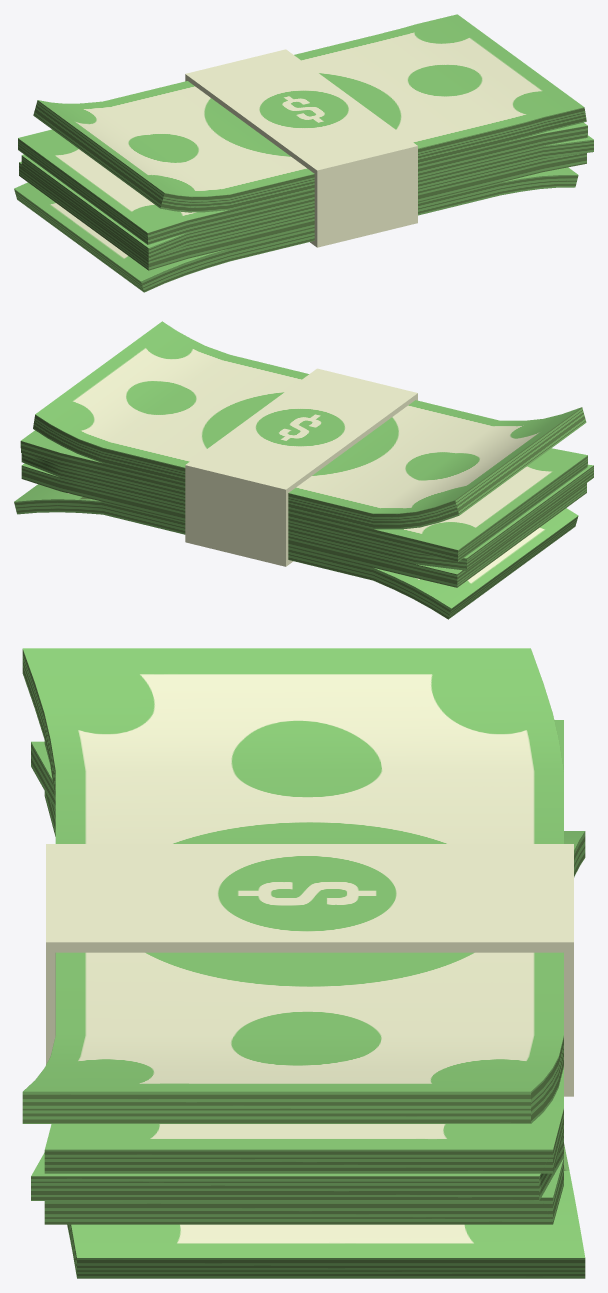
The model's file is M_Bunch_03.fbx.
3 renders of one model, top to bottom at view 1: azimuth 30°, elevation 25°; view 2: azimuth 150°, elevation 25°; view 3: azimuth 270°, elevation 25°, orthographic. The views are drawn at different scales.
Visible parts, largest first — view 1: M_Bunch_03; view 2: M_Bunch_03; view 3: M_Bunch_03.
Part boxes in pixels (<box>): M_Bunch_03: <box>14,14,593,292</box>; M_Bunch_03: <box>14,321,593,619</box>; M_Bunch_03: <box>22,648,585,1278</box>.
Size of the model in its own units: 0.6615 by 0.1533 by 0.362.
